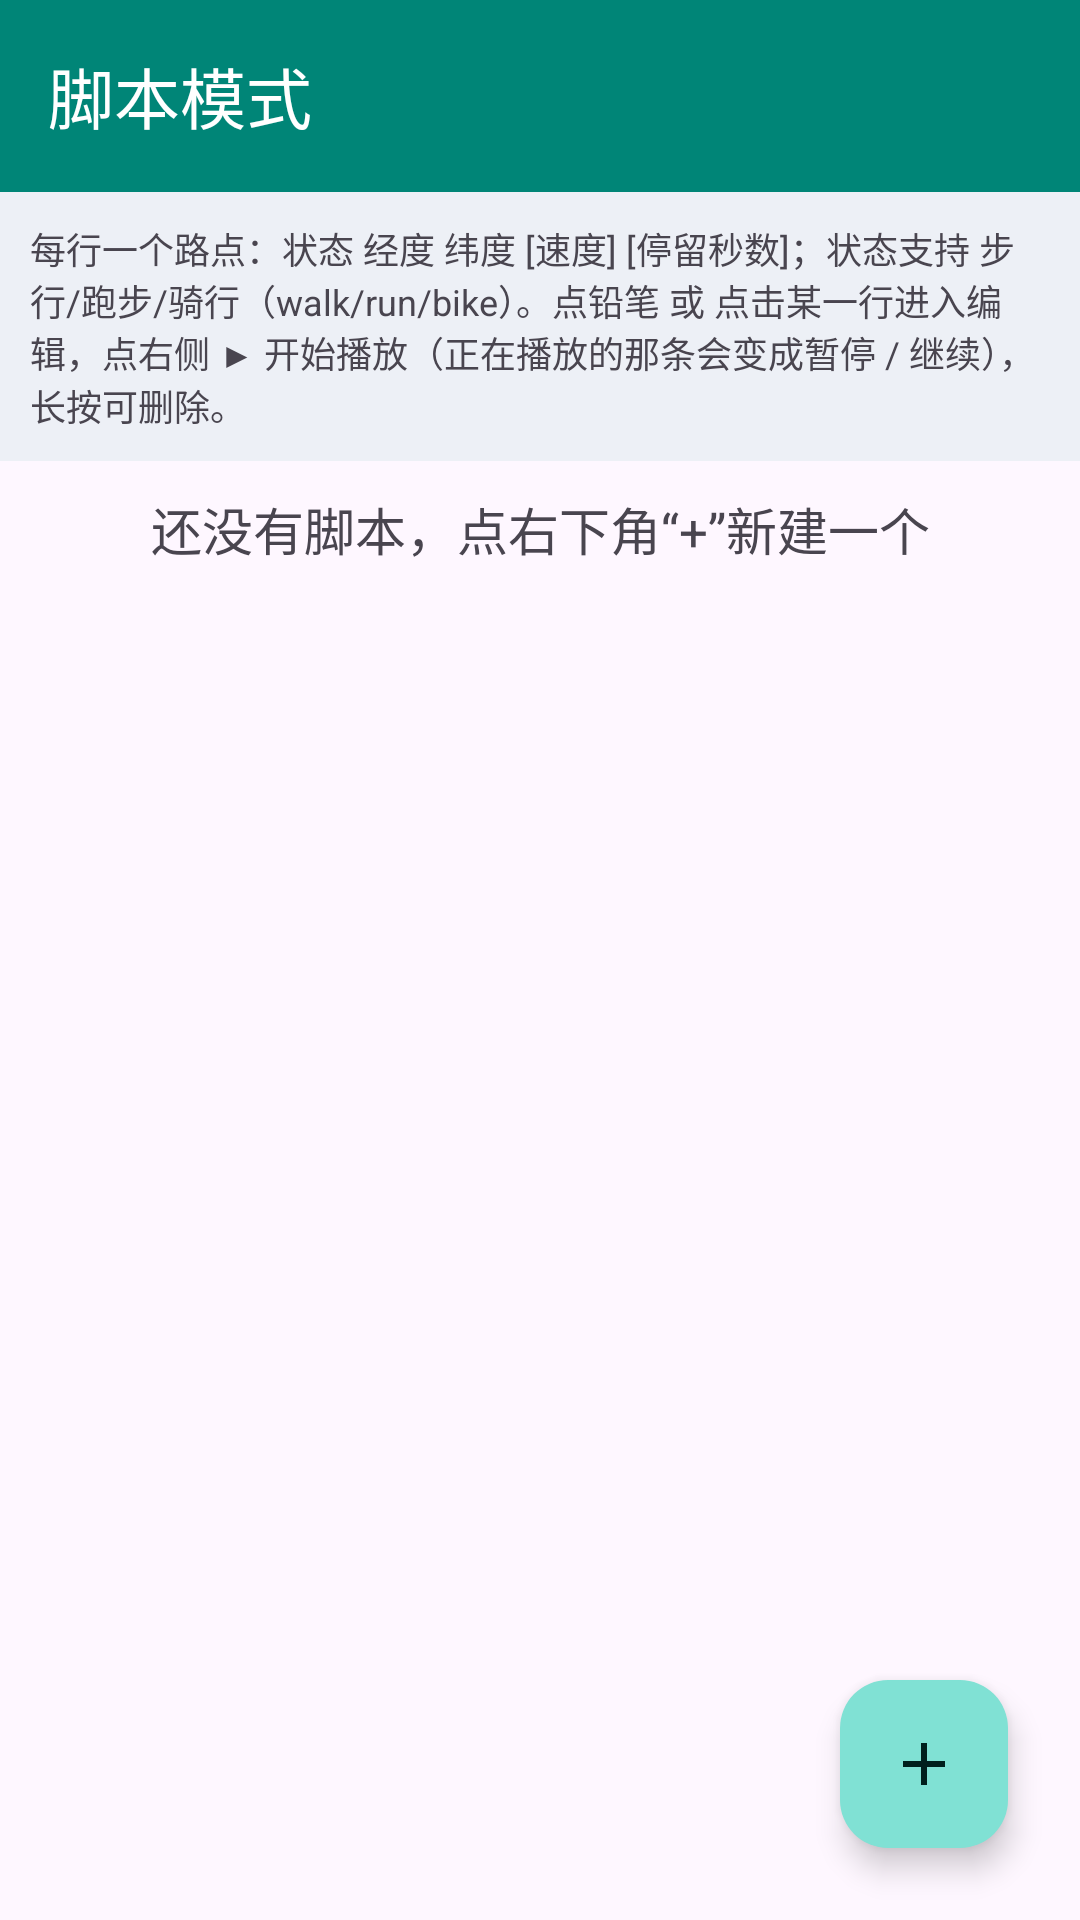

Where to tap for icons on this 1080 x 1920 app screen, as [x,y]:
新建脚本: [924,1764]
